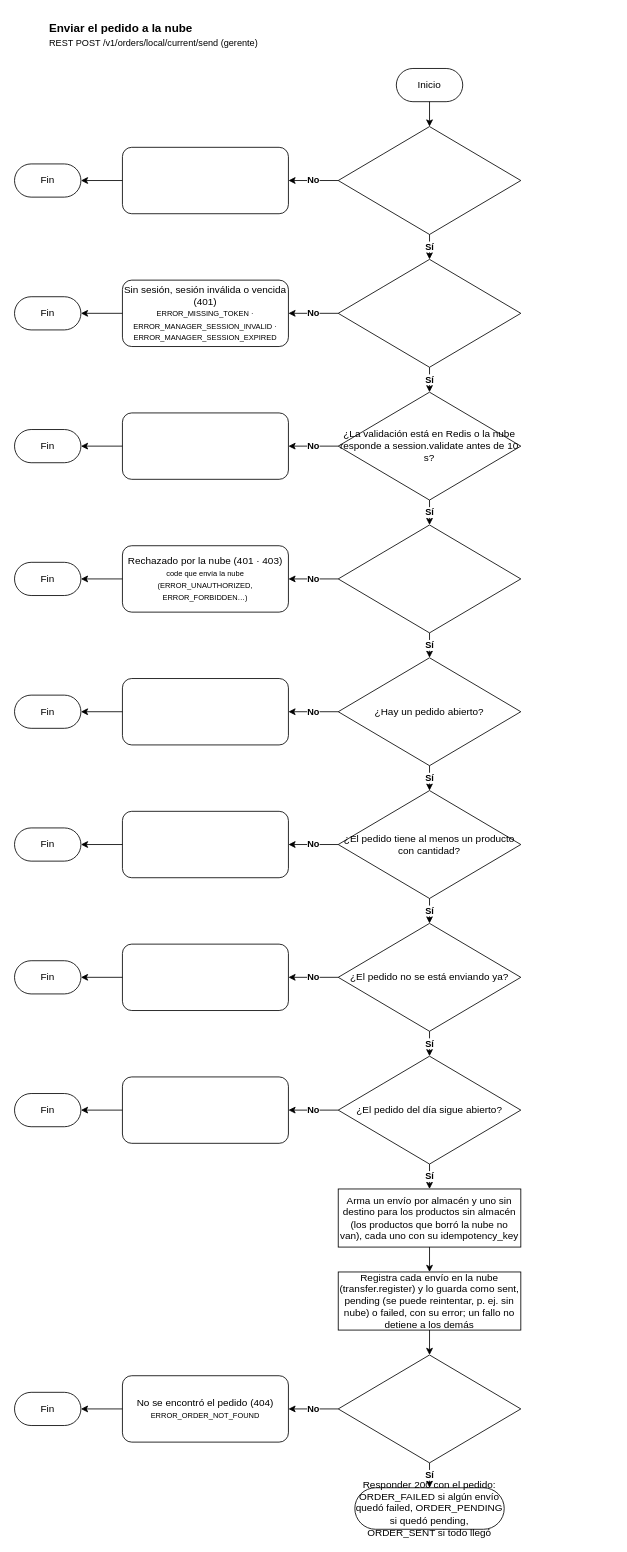
Image size: 627x1552. Some labels were removed from this diagram. Here are the shapes that lost their labels. From the top down, the centre of each, then its label:
At pixel 205 180: "Servidor sin emparejar (409) ERROR_SERVER_NOT_PAIRED".
At pixel 429 180: "¿El servidor ya se emparejó alguna vez (pairing_status distinto de unpaired)?".
At pixel 429 313: "¿Trae una sesión de gerente válida (Bearer mss_..., sin 30 min de inactividad)?".
At pixel 205 445: "La nube no responde (503) ERROR_CLOUD_UNAVAILABLE · ERROR_SERVER_UNLINKED".
At pixel 429 578: "¿La nube acepta la sesión del gerente con este servidor?".
At pixel 205 711: "No hay un pedido abierto (404) ERROR_ORDER_NO_OPEN_ORDER".
At pixel 205 844: "El pedido no tiene productos (409) ERROR_ORDER_EMPTY".
At pixel 205 977: "El pedido se está enviando (409) ERROR_ORDER_SENDING".
At pixel 205 1109: "El pedido ya no está abierto (409) ERROR_ORDER_NOT_OPEN".
At pixel 429 1408: "¿Existe el pedido?".
